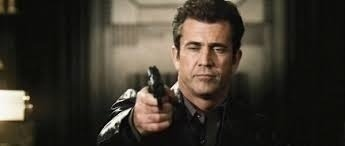pistol: (140, 64, 178, 112)
